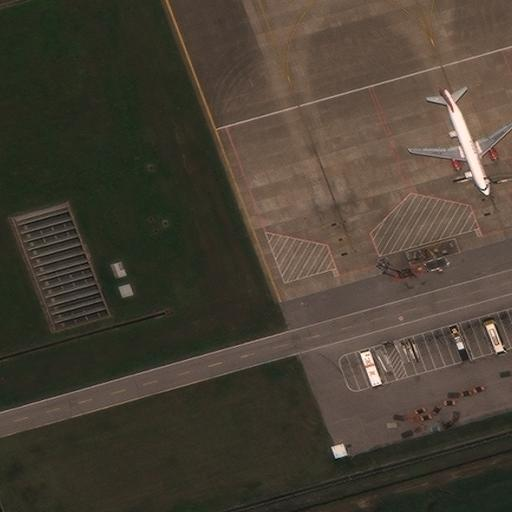Medium Civil Transport: (411, 89, 512, 196)
